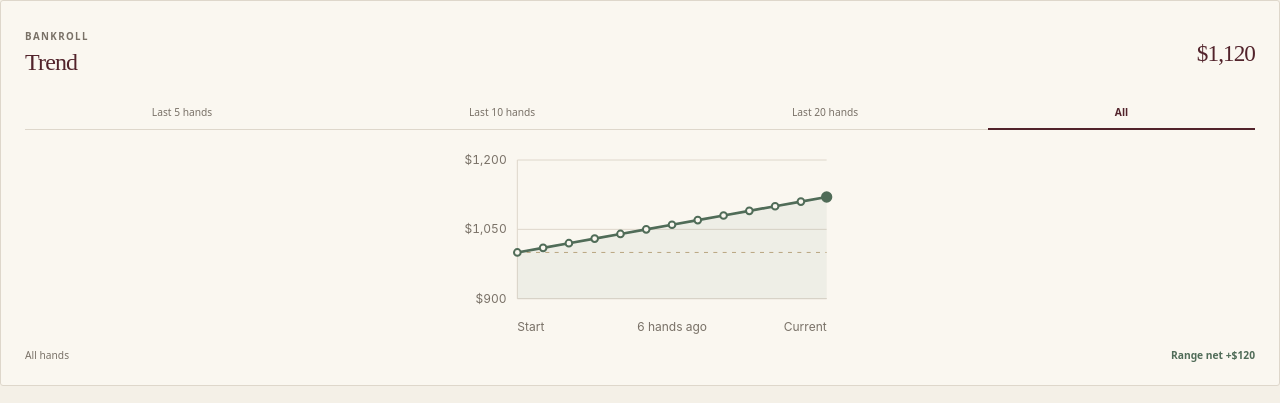
Test: BankrollGraph › switches between hand ranges
The image size is (1280, 403).
Click the button "Last 5 hands" at (182, 113), box [25,96,339,130]
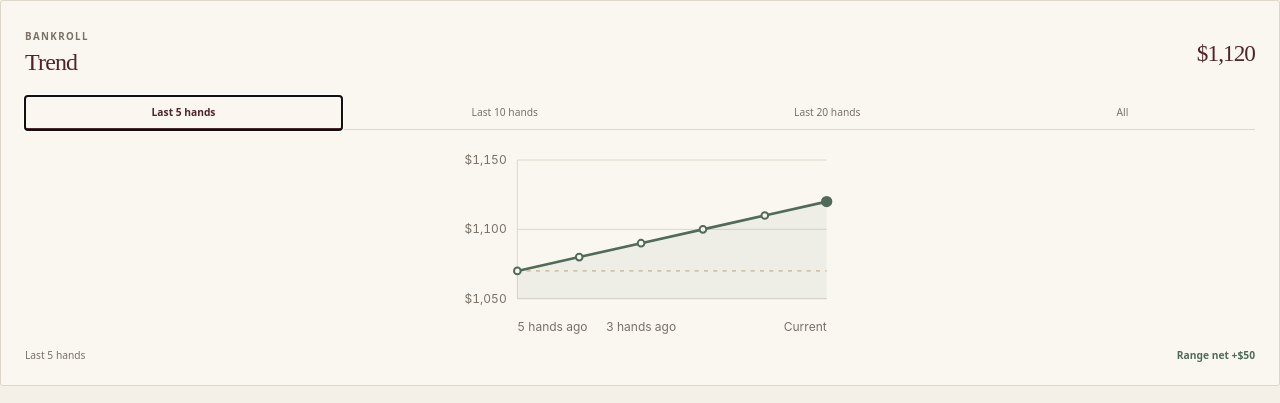
Check: the text "5 hands ago" is shown, box [517,319,587,334]
Check: the picture named "Bankroll graph from $1,070 to $1,120 over 5 hands" is shown, box [25,144,1255,344]
Check: the text "Range net +$50" is shown, box [1177,348,1255,363]
